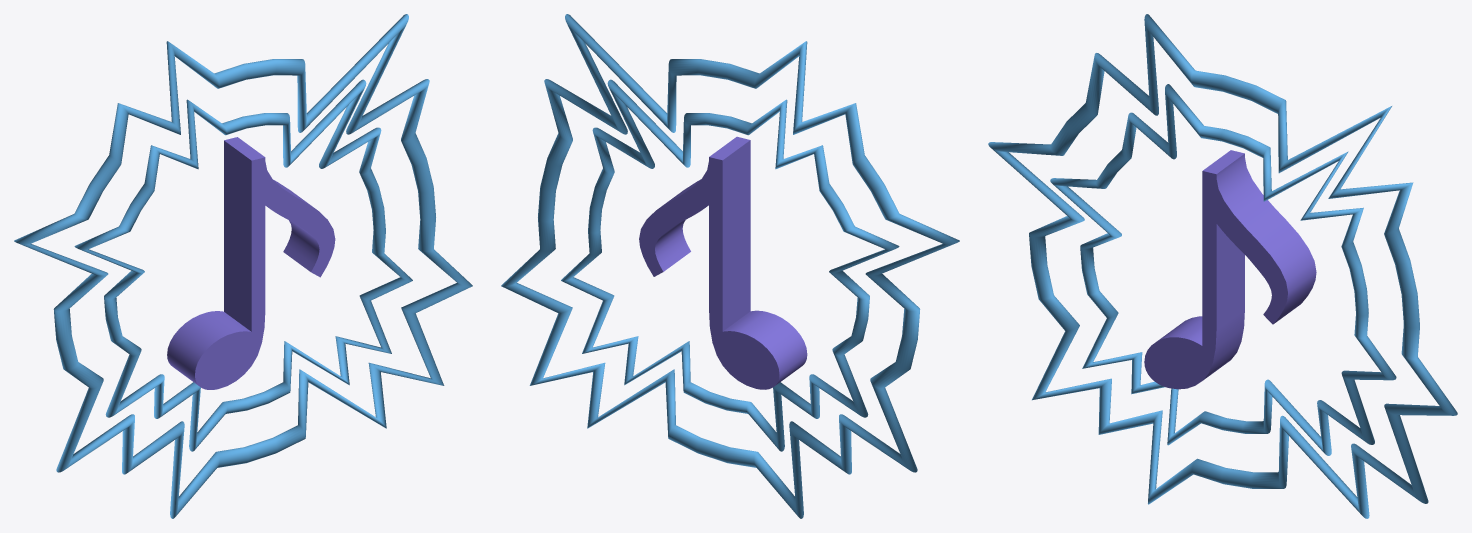
The model's file is onnpu2.fbx.
3 renders of one model, left to right at view 1: azimuth 30°, elevation 25°; view 2: azimuth 150°, elevation 25°; view 3: azimuth 330°, elevation 25°, orthographic. The views are drawn at different scales.
Parts seen in each view (by area): view 1: pTorus3, typeMesh2, pTorus4; view 2: pTorus3, typeMesh2, pTorus4; view 3: pTorus3, typeMesh2, pTorus4.
Part boxes in pixels (<box>): pTorus3: <box>14,14,472,518</box>; typeMesh2: <box>167,137,335,389</box>; pTorus4: <box>74,79,412,451</box>; pTorus3: <box>501,14,959,518</box>; typeMesh2: <box>639,136,807,389</box>; pTorus4: <box>561,79,899,451</box>; pTorus3: <box>988,14,1457,518</box>; typeMesh2: <box>1144,150,1316,389</box>; pTorus4: <box>1050,84,1396,455</box>.
Bounding box in the file's own units: 23.75 × 23.71 × 2.5.
